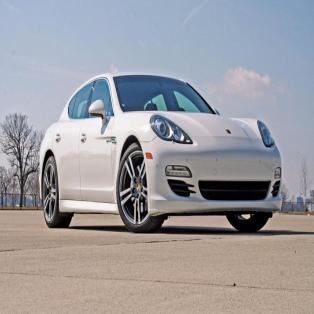Auto: (38, 73, 283, 234)
